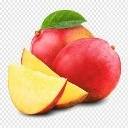mango: (51, 38, 121, 103)
